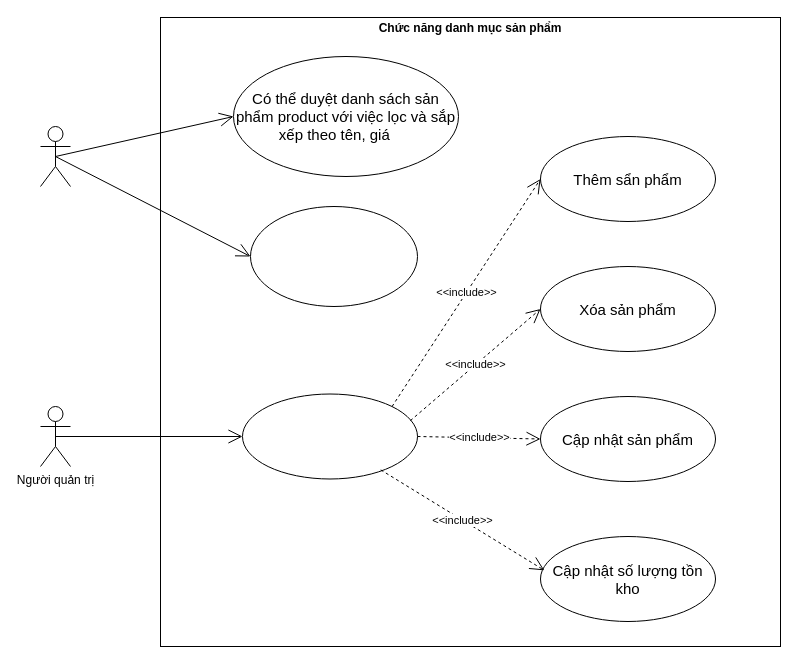
Image size: 798x664. Some labels were removed from this diagram. The shapes that lost their labels are listed below. From the top down, each one's box as (x1, y1, x2, y2) in pixels, then its label:
(40, 126, 70, 186): Người Mua
(250, 206, 418, 306): Xem chi tiết sản phẩm
(242, 393, 418, 479): Quán lí sản phẩm
